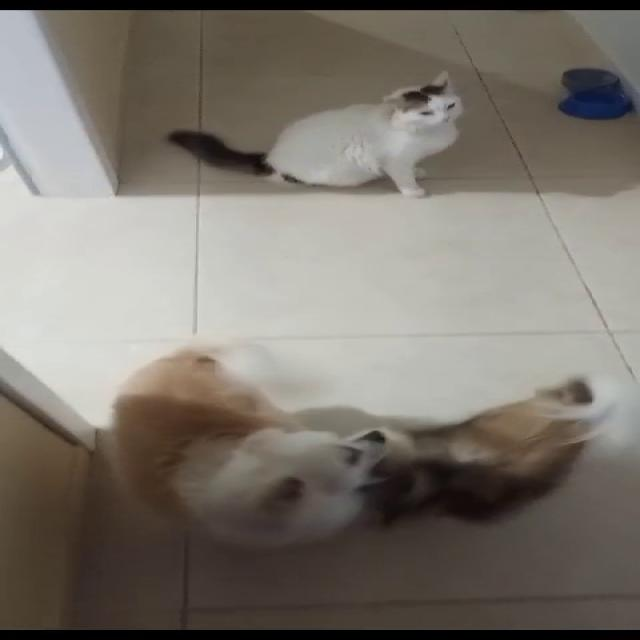Pedrita: (364, 314, 635, 540)
Simba: (223, 54, 564, 246)
Theo: (105, 332, 404, 564)
